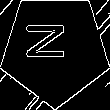N_E: (31, 29, 79, 69)
